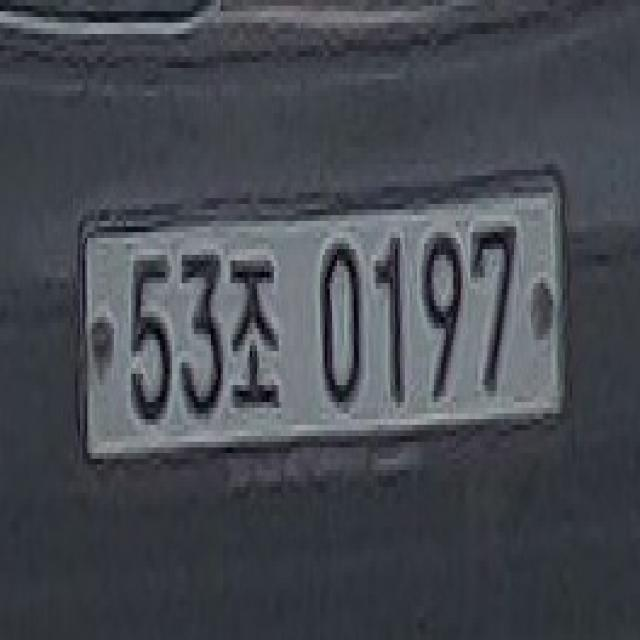0: (315, 210, 366, 436)
1: (373, 215, 408, 408)
3: (177, 238, 230, 459)
5: (121, 232, 177, 442)
7: (461, 198, 521, 436)
9: (410, 204, 470, 425)
jo: (223, 227, 291, 419)
license_plate: (73, 153, 577, 481)
